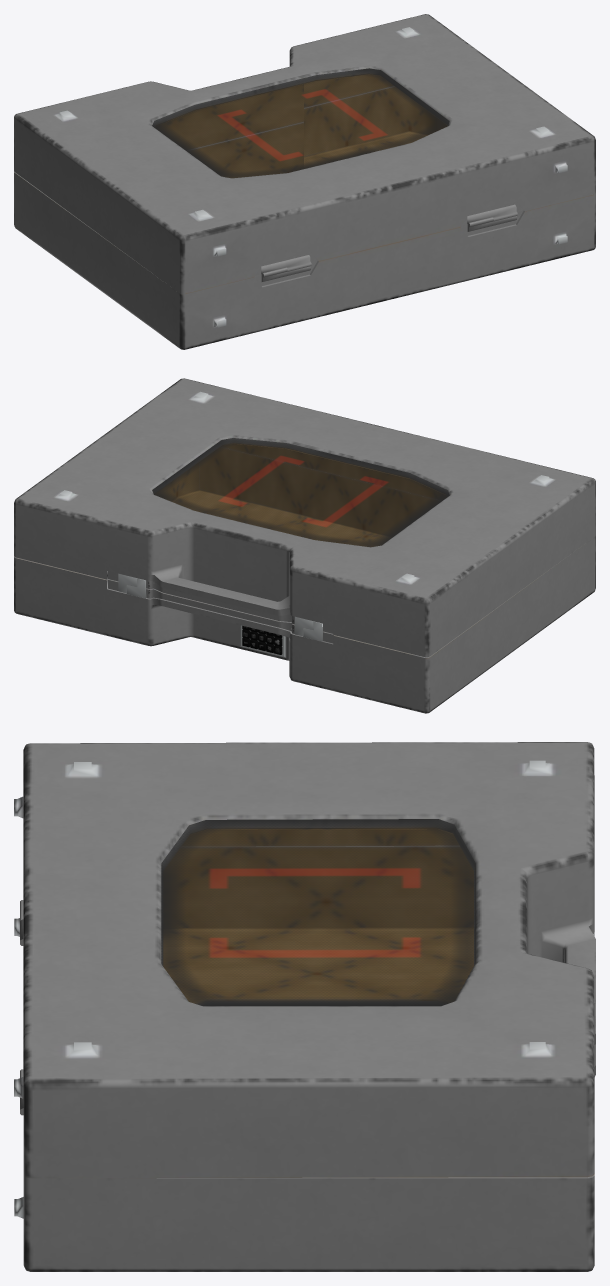
The model's file is valise1Aa.gltf.
The picture shows the model from 3 angles, top to bottom: view 1: azimuth 30°, elevation 25°; view 2: azimuth 150°, elevation 25°; view 3: azimuth 270°, elevation 25°; orthographic projection. The views are drawn at different scales.
Visible parts, largest first — view 1: Case.003_Case_main_med_0.001, Case_Case_main_med_0.001, Window.001_Case_glass_med_0.001; view 2: Case.003_Case_main_med_0.001, Case_Case_main_med_0.001, Window.001_Case_glass_med_0.001, Cube_Case_main_med_0.001; view 3: Case.003_Case_main_med_0.001, Case_Case_main_med_0.001, Window.001_Case_glass_med_0.001.
Part boxes in pixels (<box>): Case.003_Case_main_med_0.001: <box>14,14,595,294</box>; Case_Case_main_med_0.001: <box>14,86,595,349</box>; Window.001_Case_glass_med_0.001: <box>152,68,449,178</box>; Case.003_Case_main_med_0.001: <box>14,378,595,657</box>; Case_Case_main_med_0.001: <box>14,447,595,713</box>; Window.001_Case_glass_med_0.001: <box>152,438,449,547</box>; Cube_Case_main_med_0.001: <box>240,625,285,657</box>; Case.003_Case_main_med_0.001: <box>14,742,595,1178</box>; Case_Case_main_med_0.001: <box>14,845,595,1271</box>; Window.001_Case_glass_med_0.001: <box>161,819,475,1006</box>.
Bounding box in the file's own units: 0.4828 × 0.1351 × 0.3476.
2 materials, 2 textured.
